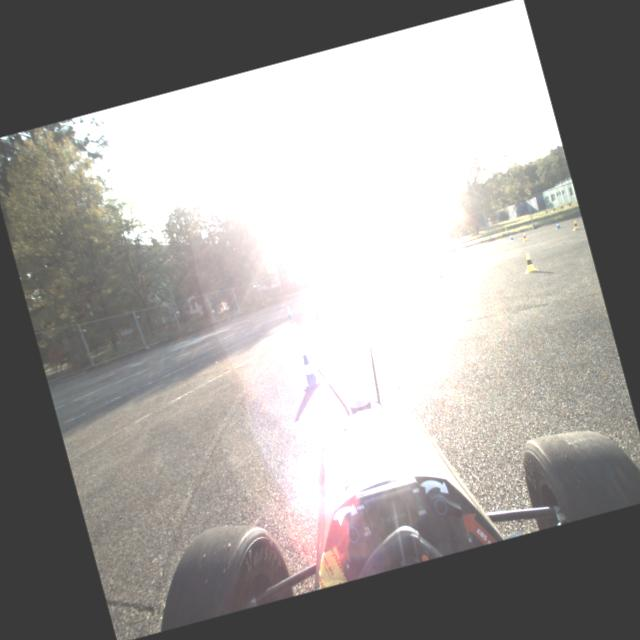blue_cone: (294, 352, 322, 391), (310, 302, 322, 320), (284, 306, 294, 318), (554, 219, 562, 229), (508, 231, 515, 241), (284, 304, 292, 312), (298, 296, 304, 304), (458, 248, 462, 254)
yellow_cone: (520, 250, 539, 274), (436, 269, 446, 285), (570, 218, 581, 231), (378, 280, 387, 294), (521, 230, 528, 241), (463, 248, 467, 255)
